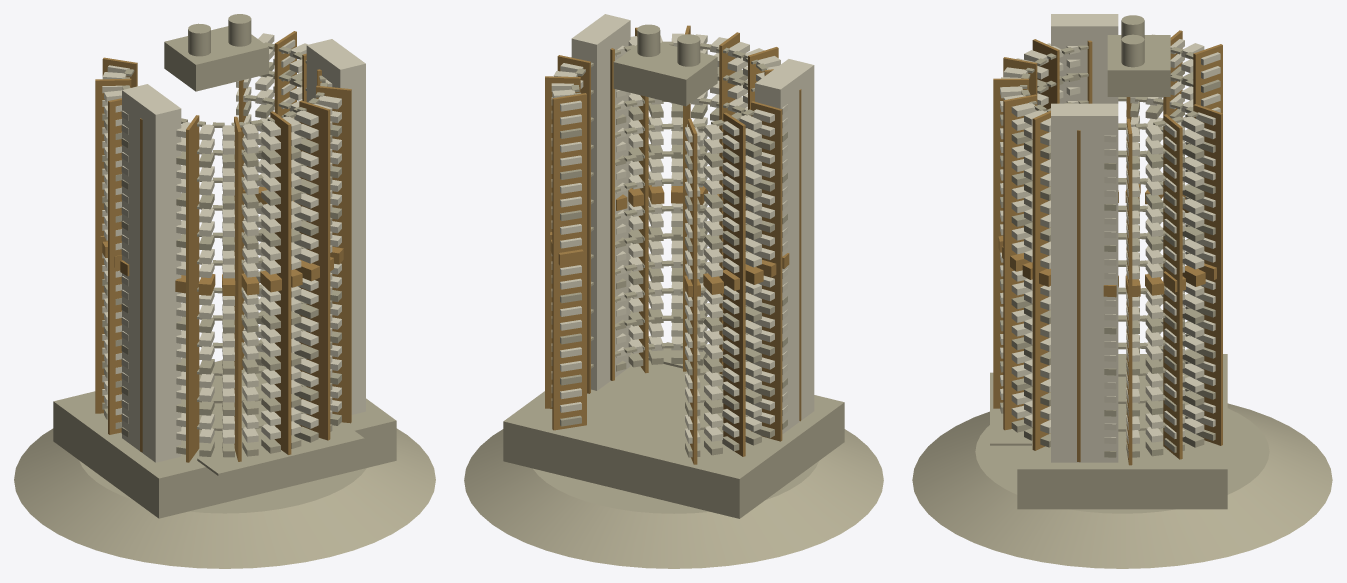
The model's file is pearl-bank-apartments.glb.
3 renders of one model, left to right at view 1: azimuth 30°, elevation 25°; view 2: azimuth 150°, elevation 25°; view 3: azimuth 270°, elevation 25°, orthographic.
Parts seen in each view (by area): view 1: hill-base/tapered, service-spine/form (×2), podium-carpark/form, radial-party-fins/fin-7, radial-party-fins/fin-4, radial-party-fins/fin-8, radial-party-fins/fin-6, roof-plant/form, radial-party-fins/fin-2, radial-party-fins/fin-1, radial-party-fins/fin-5, open-cylinder-gap/court-axis (+4 smaller); view 2: hill-base/tapered, podium-carpark/form, service-spine/form (×2), radial-party-fins/fin-12, roof-plant/form, radial-party-fins/fin-2, radial-party-fins/fin-1, radial-party-fins/fin-11, radial-party-fins/fin-0, radial-party-fins/fin-8, radial-party-fins/fin-10, radial-party-fins/fin-9 (+5 smaller); view 3: hill-base/tapered, service-spine/form (×2), podium-carpark/form, radial-party-fins/fin-11, radial-party-fins/fin-12, radial-party-fins/fin-7, radial-party-fins/fin-8, roof-plant/form, radial-party-fins/fin-6, radial-party-fins/fin-10, radial-party-fins/fin-9, radial-party-fins/fin-0 (+4 smaller).
Boxes of the visible parts, x1=… form: hill-base/tapered: x1=14, y1=428, x2=435, y2=568; service-spine/form (×2): x1=122, y1=39, x2=365, y2=462; podium-carpark/form: x1=53, y1=351, x2=396, y2=518; radial-party-fins/fin-7: x1=299, y1=100, x2=330, y2=440; radial-party-fins/fin-4: x1=186, y1=115, x2=199, y2=462; radial-party-fins/fin-8: x1=316, y1=85, x2=351, y2=423; radial-party-fins/fin-6: x1=270, y1=111, x2=291, y2=454; roof-plant/form: x1=164, y1=26, x2=268, y2=91; radial-party-fins/fin-2: x1=108, y1=98, x2=121, y2=434; radial-party-fins/fin-1: x1=95, y1=78, x2=131, y2=413; radial-party-fins/fin-5: x1=234, y1=116, x2=241, y2=461; open-cylinder-gap/court-axis: x1=197, y1=422, x2=364, y2=475; hill-base/tapered: x1=464, y1=429, x2=883, y2=568; podium-carpark/form: x1=503, y1=360, x2=844, y2=518; service-spine/form (×2): x1=571, y1=14, x2=814, y2=433; radial-party-fins/fin-12: x1=552, y1=93, x2=586, y2=430; roof-plant/form: x1=613, y1=43, x2=717, y2=106; radial-party-fins/fin-2: x1=751, y1=101, x2=782, y2=441; radial-party-fins/fin-1: x1=723, y1=112, x2=745, y2=456; radial-party-fins/fin-11: x1=545, y1=76, x2=580, y2=408; radial-party-fins/fin-0: x1=688, y1=118, x2=697, y2=464; radial-party-fins/fin-8: x1=635, y1=27, x2=648, y2=373; radial-party-fins/fin-10: x1=557, y1=55, x2=590, y2=393; radial-party-fins/fin-9: x1=610, y1=48, x2=614, y2=380; hill-base/tapered: x1=912, y1=403, x2=1332, y2=568; service-spine/form (×2): x1=1051, y1=14, x2=1118, y2=462; podium-carpark/form: x1=1017, y1=354, x2=1227, y2=509; radial-party-fins/fin-11: x1=1163, y1=114, x2=1182, y2=459; radial-party-fins/fin-12: x1=1193, y1=104, x2=1222, y2=445; radial-party-fins/fin-7: x1=1003, y1=94, x2=1037, y2=430; radial-party-fins/fin-8: x1=1032, y1=110, x2=1050, y2=450; roof-plant/form: x1=1107, y1=35, x2=1170, y2=96; radial-party-fins/fin-6: x1=993, y1=78, x2=1028, y2=408; radial-party-fins/fin-10: x1=1126, y1=118, x2=1132, y2=465; radial-party-fins/fin-9: x1=1077, y1=130, x2=1080, y2=462; radial-party-fins/fin-0: x1=1193, y1=44, x2=1222, y2=113.
Size of the model in its own units: 20 by 23.65 by 20.
